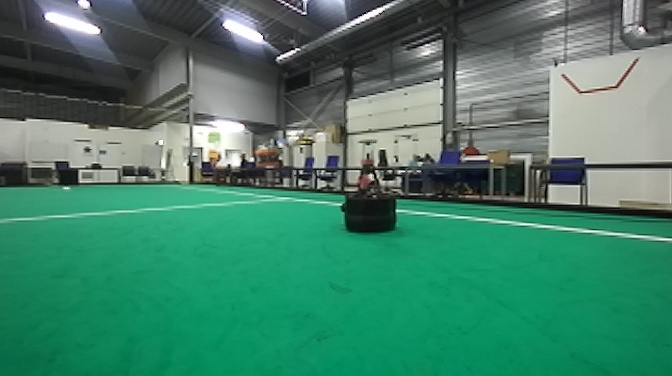robot: (340, 136, 403, 235)
